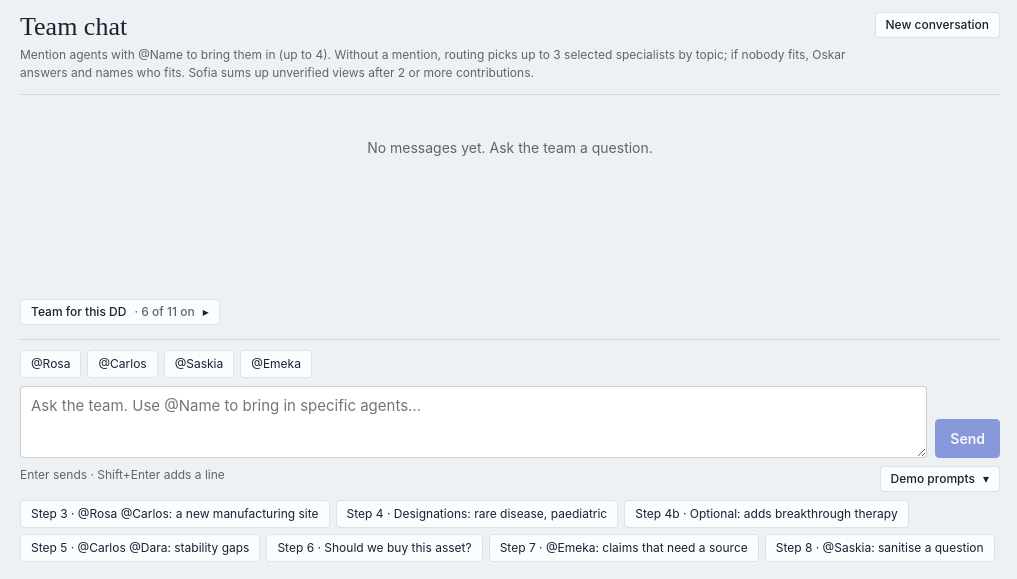
Scenario: ChatRoom › in the team chat, offers @mention chips for selected agents who can be mentioned
The image size is (1017, 579).
Click the button "@Carlos": click(123, 364) [87,350,158,378]
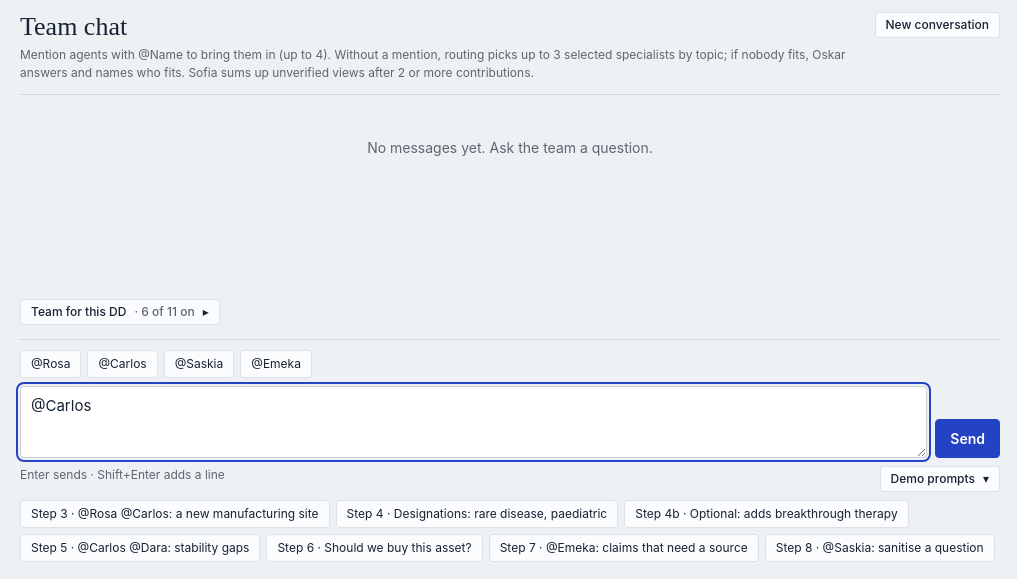
Now the text box named "Message the team" holds "@Carlos ", box [20,386,927,458]
